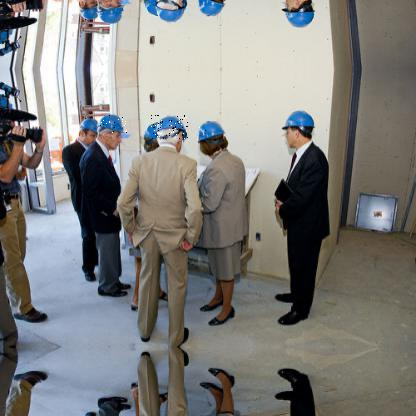safetyhelmet: (151, 114, 189, 140), (196, 122, 227, 148), (280, 110, 317, 130), (98, 114, 128, 134), (76, 116, 101, 136)
